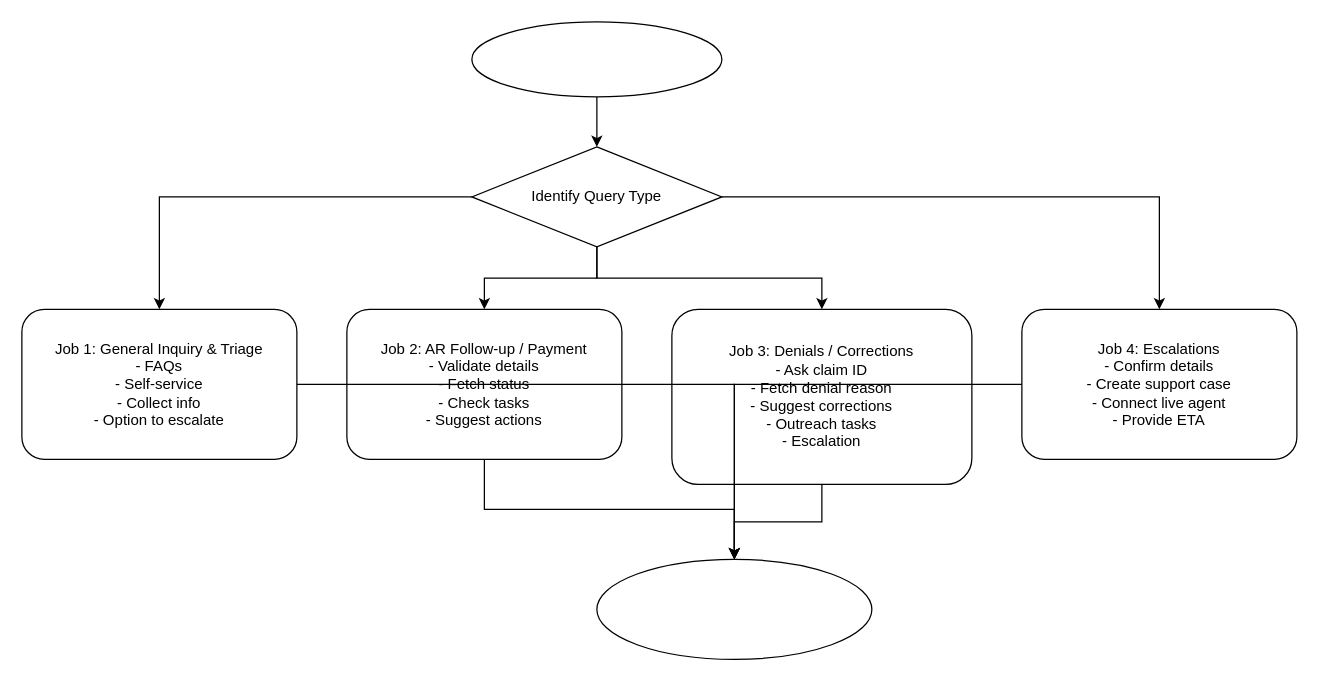
Image size: 1319x681. Some labels were removed from this diagram. The box of each missing label's shape, as (x1, y1, x2, y2) in pixels:
Confirmation & Close - Summarize - Provide ref ID - Ask anything else: (596, 558, 872, 659)
Start: User Message / Query: (471, 21, 722, 97)
